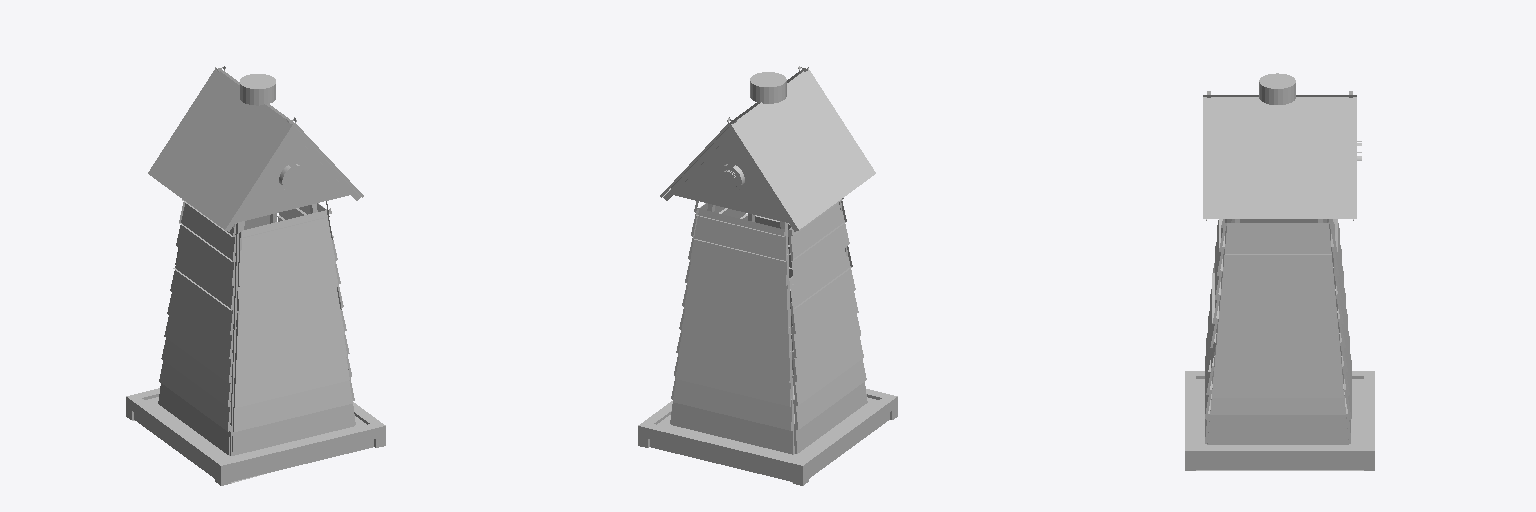
Rendered from Turnul_pompa_mod.obj.
3 views of the same model, side by side, from view 1: azimuth 30°, elevation 25°; view 2: azimuth 150°, elevation 25°; view 3: azimuth 270°, elevation 25° (orthographic).
Visible parts, largest first — view 1: Mesh3738 Mesh2_1 Group1 Model, Mesh22 Mesh12_1 Group1 Model, Mesh43 Group1 Model, Mesh5 Mesh31 Group1 Model, Mesh1011 Mesh29 Group1 Model, Mesh3031 Mesh34 Group1 Model, Mesh4 Mesh30 Group1 Model, Mesh21 Mesh35 Group1 Model, Mesh2829 Mesh33 Group1 Model, Mesh6 Mesh32 Group1 Model, Mesh15 Mesh36 Group1 Model, Mesh2728 Mesh20_1 Group1 Model (+10 smaller); view 2: Mesh22 Mesh12_1 Group1 Model, Mesh3738 Mesh2_1 Group1 Model, Mesh43 Group1 Model, Mesh3940 Mesh4_1 Group1 Model, Mesh4243 Mesh5_1 Group1 Model, Mesh3637 Mesh8_1 Group1 Model, Mesh4041 Mesh6_1 Group1 Model, Mesh4142 Mesh7_1 Group1 Model, Mesh3 Mesh11 Group1 Model, Mesh2 Mesh10 Group1 Model, Mesh3839 Mesh3_1 Group1 Model, Mesh2728 Mesh20_1 Group1 Model (+9 smaller); view 3: Mesh3738 Mesh2_1 Group1 Model, Mesh22 Mesh12_1 Group1 Model, Mesh20 Mesh18_1 Group1 Model, Mesh3233 Mesh21_1 Group1 Model, Mesh2627 Mesh19_1 Group1 Model, Mesh2526 Mesh17_1 Group1 Model, Mesh3132 Mesh16_1 Group1 Model, Mesh2930 Mesh15_1 Group1 Model, Mesh23 Mesh13_1 Group1 Model, Mesh1 Mesh9 Group1 Model, Mesh12 Group2 Group1 Model.
Part boxes in pixels (bbox=[...]): Mesh3738 Mesh2_1 Group1 Model: bbox=[148, 68, 363, 230]; Mesh22 Mesh12_1 Group1 Model: bbox=[126, 383, 385, 485]; Mesh43 Group1 Model: bbox=[220, 71, 352, 222]; Mesh5 Mesh31 Group1 Model: bbox=[239, 201, 332, 262]; Mesh1011 Mesh29 Group1 Model: bbox=[233, 381, 352, 431]; Mesh3031 Mesh34 Group1 Model: bbox=[234, 358, 349, 407]; Mesh4 Mesh30 Group1 Model: bbox=[235, 334, 346, 383]; Mesh21 Mesh35 Group1 Model: bbox=[236, 310, 344, 359]; Mesh2829 Mesh33 Group1 Model: bbox=[236, 287, 341, 335]; Mesh6 Mesh32 Group1 Model: bbox=[237, 264, 338, 310]; Mesh15 Mesh36 Group1 Model: bbox=[238, 240, 335, 286]; Mesh2728 Mesh20_1 Group1 Model: bbox=[159, 360, 230, 431]; Mesh22 Mesh12_1 Group1 Model: bbox=[638, 360, 897, 485]; Mesh3738 Mesh2_1 Group1 Model: bbox=[660, 68, 875, 230]; Mesh43 Group1 Model: bbox=[671, 71, 803, 222]; Mesh3940 Mesh4_1 Group1 Model: bbox=[693, 209, 786, 261]; Mesh4243 Mesh5_1 Group1 Model: bbox=[673, 379, 792, 430]; Mesh3637 Mesh8_1 Group1 Model: bbox=[675, 356, 791, 406]; Mesh4041 Mesh6_1 Group1 Model: bbox=[678, 333, 790, 382]; Mesh4142 Mesh7_1 Group1 Model: bbox=[681, 310, 790, 358]; Mesh3 Mesh11 Group1 Model: bbox=[684, 286, 789, 333]; Mesh2 Mesh10 Group1 Model: bbox=[687, 263, 788, 309]; Mesh3839 Mesh3_1 Group1 Model: bbox=[690, 240, 787, 285]; Mesh2728 Mesh20_1 Group1 Model: bbox=[793, 359, 866, 429]; Mesh3738 Mesh2_1 Group1 Model: bbox=[1203, 95, 1356, 218]; Mesh22 Mesh12_1 Group1 Model: bbox=[1185, 356, 1374, 470]; Mesh20 Mesh18_1 Group1 Model: bbox=[1225, 223, 1331, 254]; Mesh3233 Mesh21_1 Group1 Model: bbox=[1212, 374, 1343, 397]; Mesh2627 Mesh19_1 Group1 Model: bbox=[1214, 343, 1341, 373]; Mesh2526 Mesh17_1 Group1 Model: bbox=[1216, 321, 1339, 349]; Mesh3132 Mesh16_1 Group1 Model: bbox=[1218, 295, 1337, 325]; Mesh2930 Mesh15_1 Group1 Model: bbox=[1220, 273, 1335, 301]; Mesh23 Mesh13_1 Group1 Model: bbox=[1223, 251, 1333, 277]; Mesh1 Mesh9 Group1 Model: bbox=[1210, 395, 1346, 418]; Mesh12 Group2 Group1 Model: bbox=[1259, 73, 1295, 104].
Size of the model in its own units: 648 by 1317 by 648.